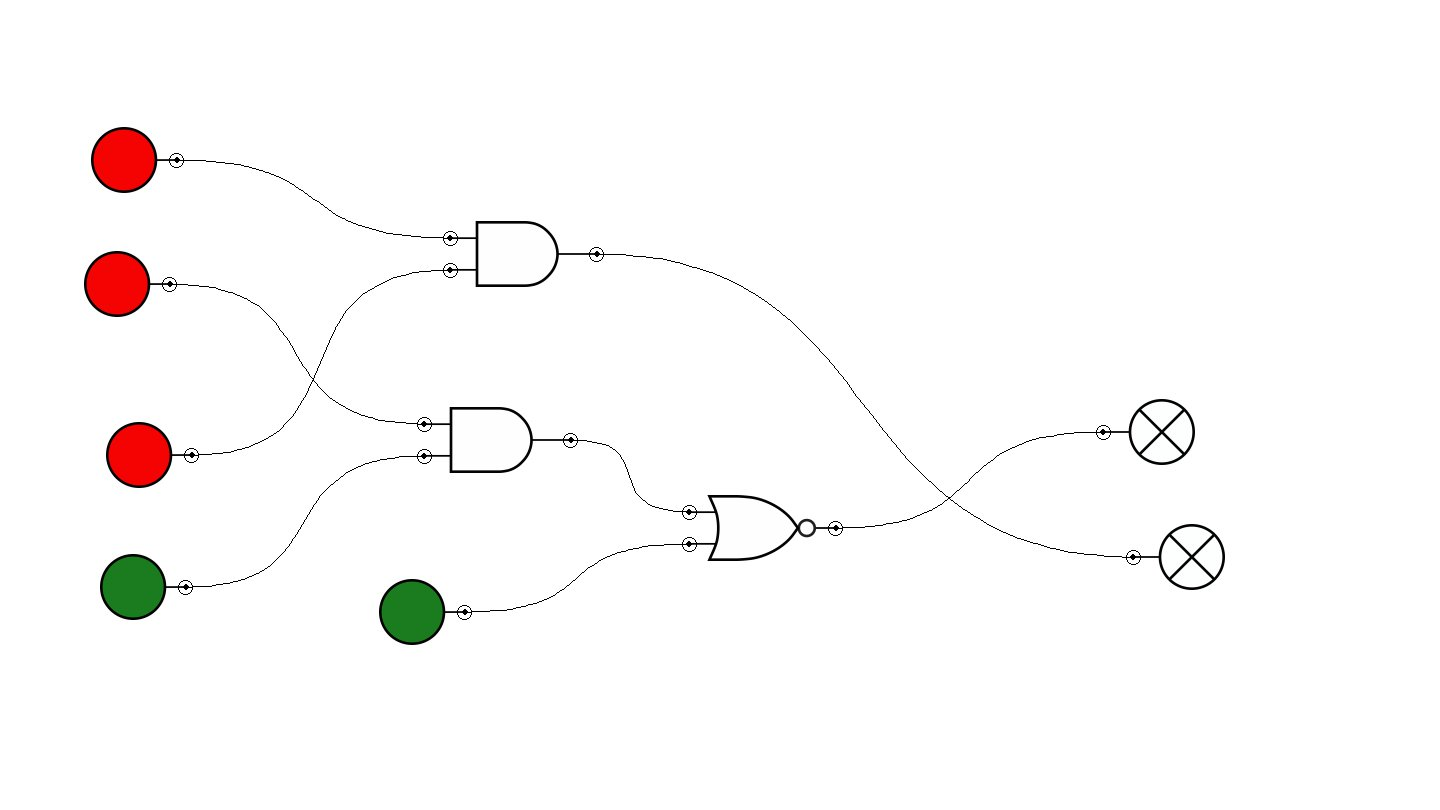and: (443, 221, 604, 287), (417, 407, 578, 473)
bulb: (1126, 524, 1225, 590), (1096, 399, 1195, 465)
nor: (682, 495, 843, 561)
switch_False: (106, 422, 199, 488), (91, 127, 184, 193), (84, 251, 177, 317)
switch_True: (100, 554, 193, 620), (379, 579, 472, 645)
